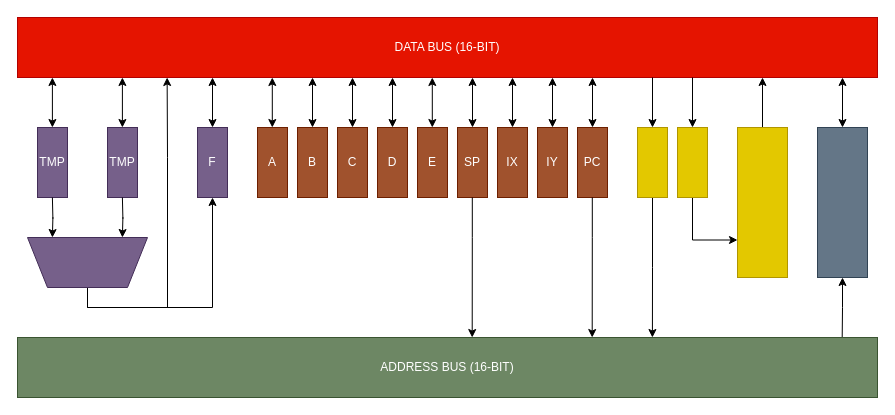
This 895x415 diagram has some shape labels left out. Here are the shapes that lost their labels. From the top down, the box of each, then its label:
(636, 126, 668, 198): MAR
(676, 126, 708, 198): ISR
(736, 126, 788, 278): CTRL
(816, 126, 868, 278): MEM
(26, 236, 148, 288): ALU
